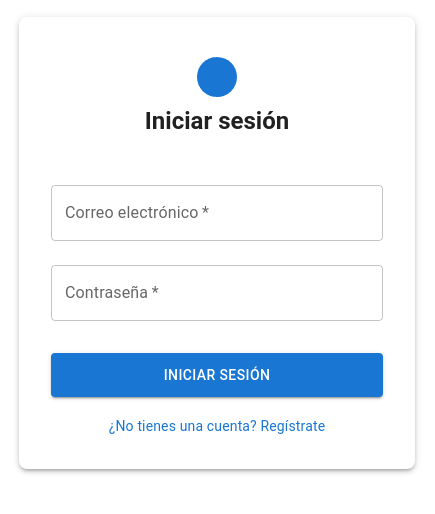
it: Login screen › Invalid password format (short)
Type "user1@example.com" into the field named "email".
click(217, 213); type("user1@example.com")  # box [51,185,383,241]
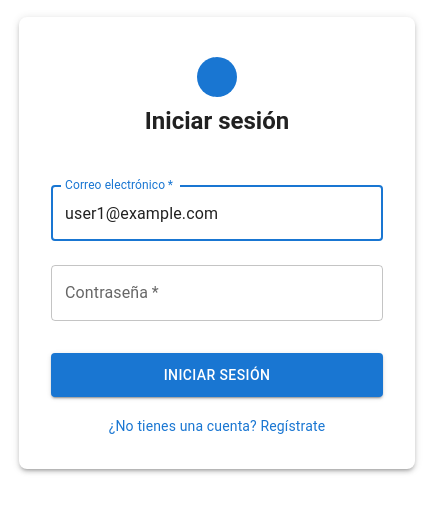
Type "pas" into the password field named "password".
click(192, 293); type("pas")  # box [51,265,333,321]
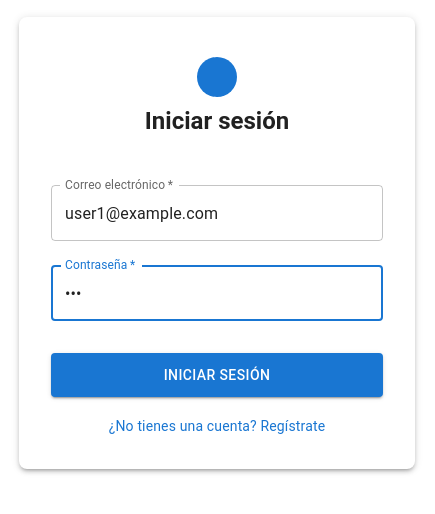
Click the submit button.
click(217, 375)  # box [51,353,383,397]
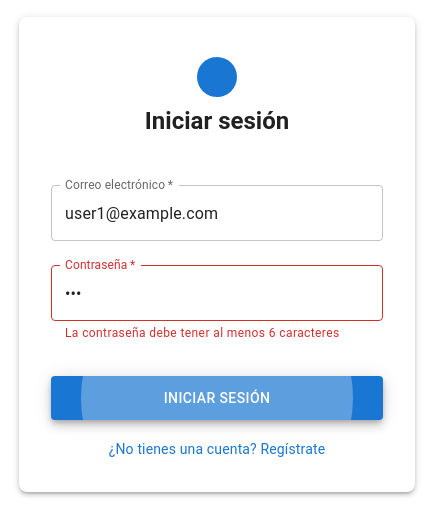
Expected: the text "La contraseña debe tener al menos 6 caracteres" is shown, [65,324,369,344]
